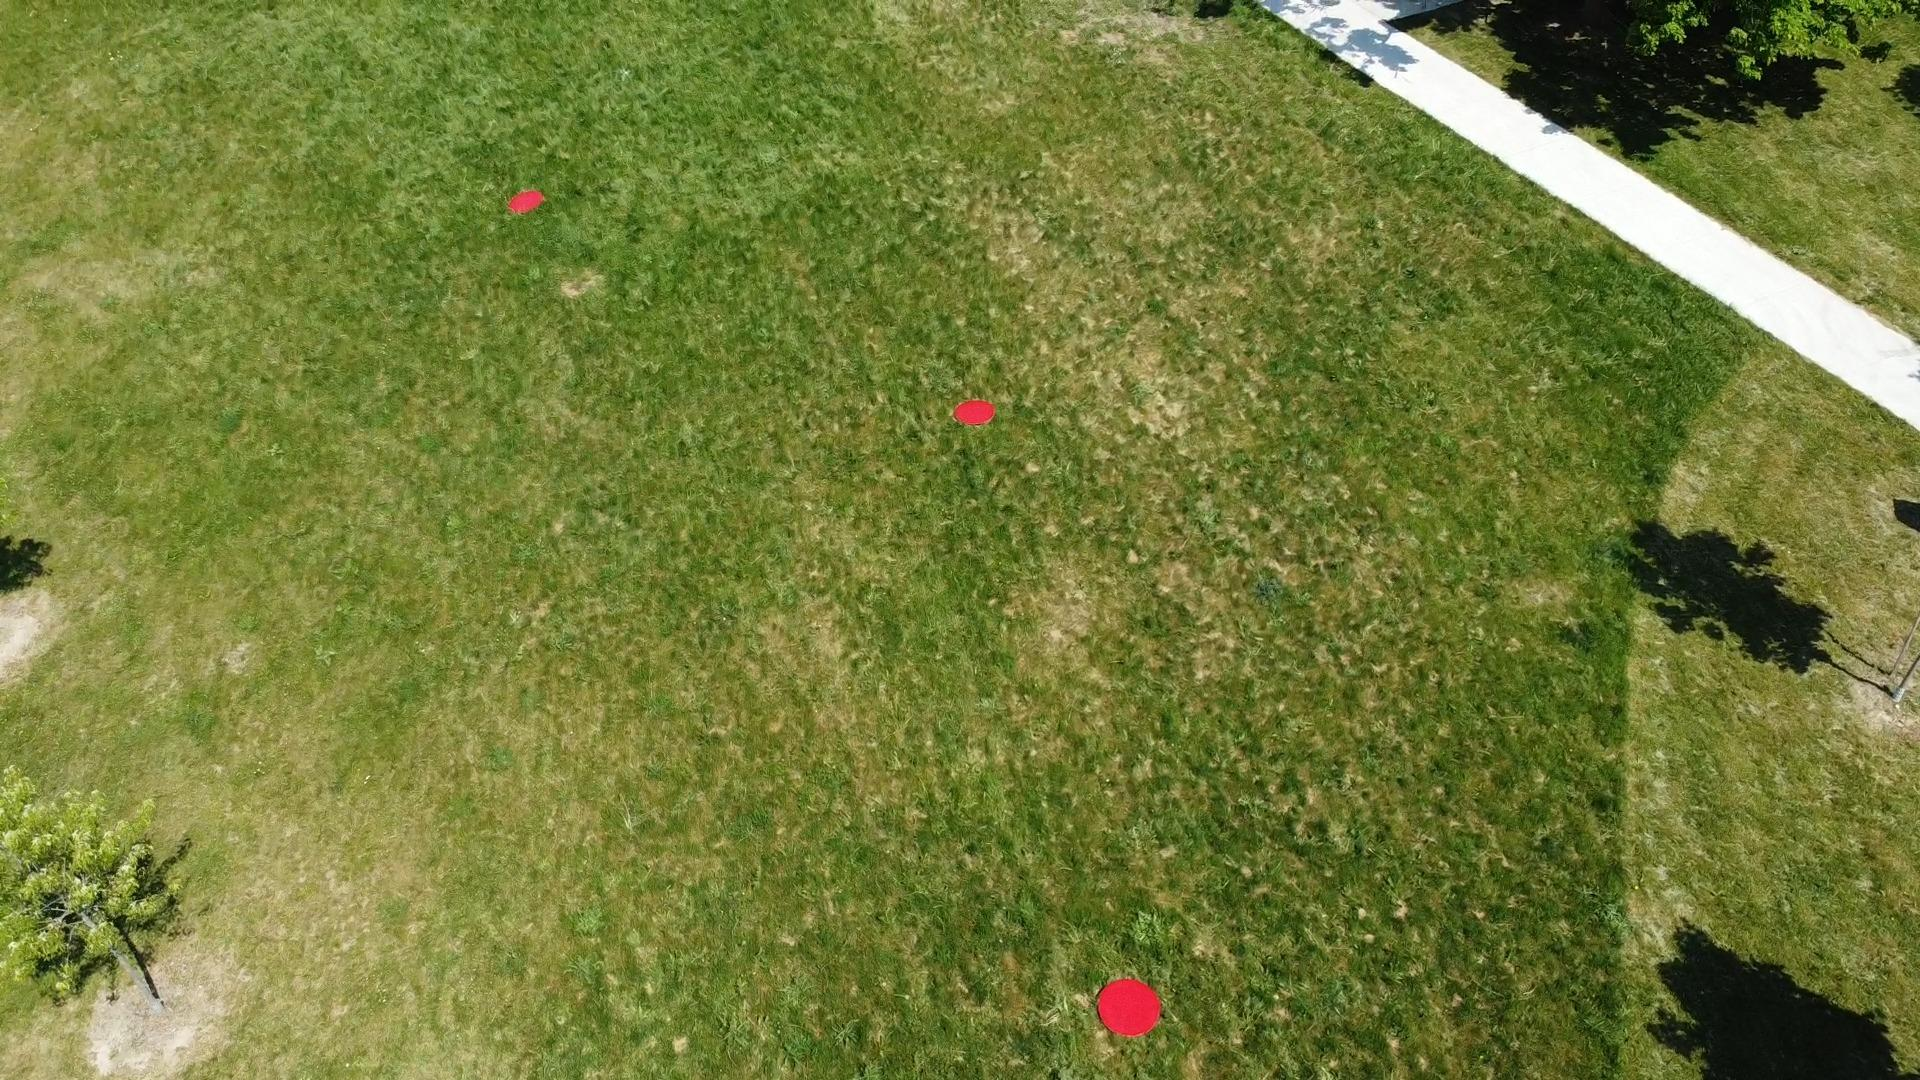Red: (1096, 977, 1163, 1038), (951, 398, 998, 429), (505, 190, 546, 215)
